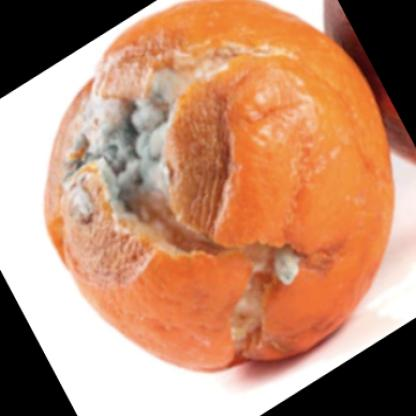rotten: (45, 1, 394, 374)
